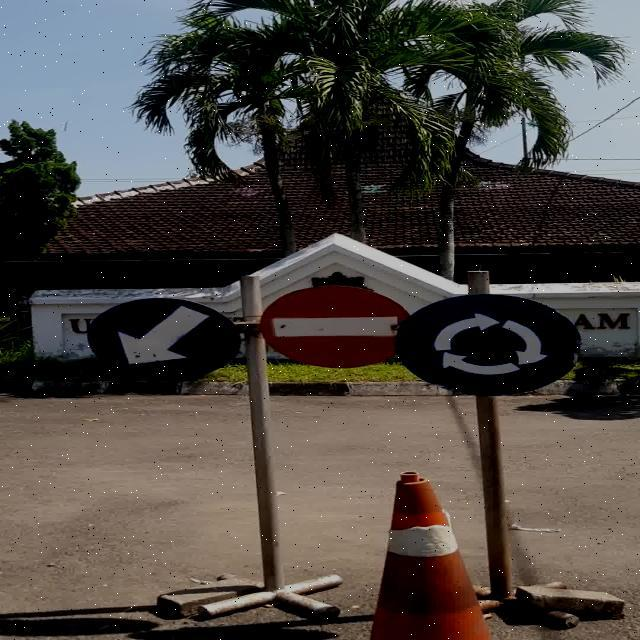Ikuti Bundaran: (397, 293, 579, 397)
Lajur Kiri: (88, 297, 242, 381)
